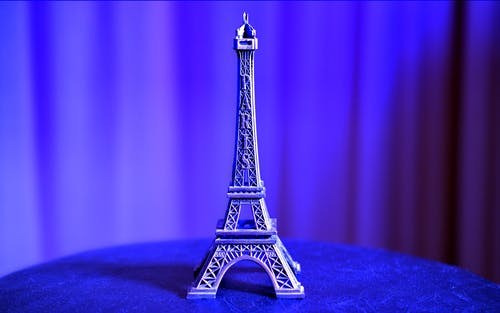eiffel tower: (158, 7, 314, 301)
